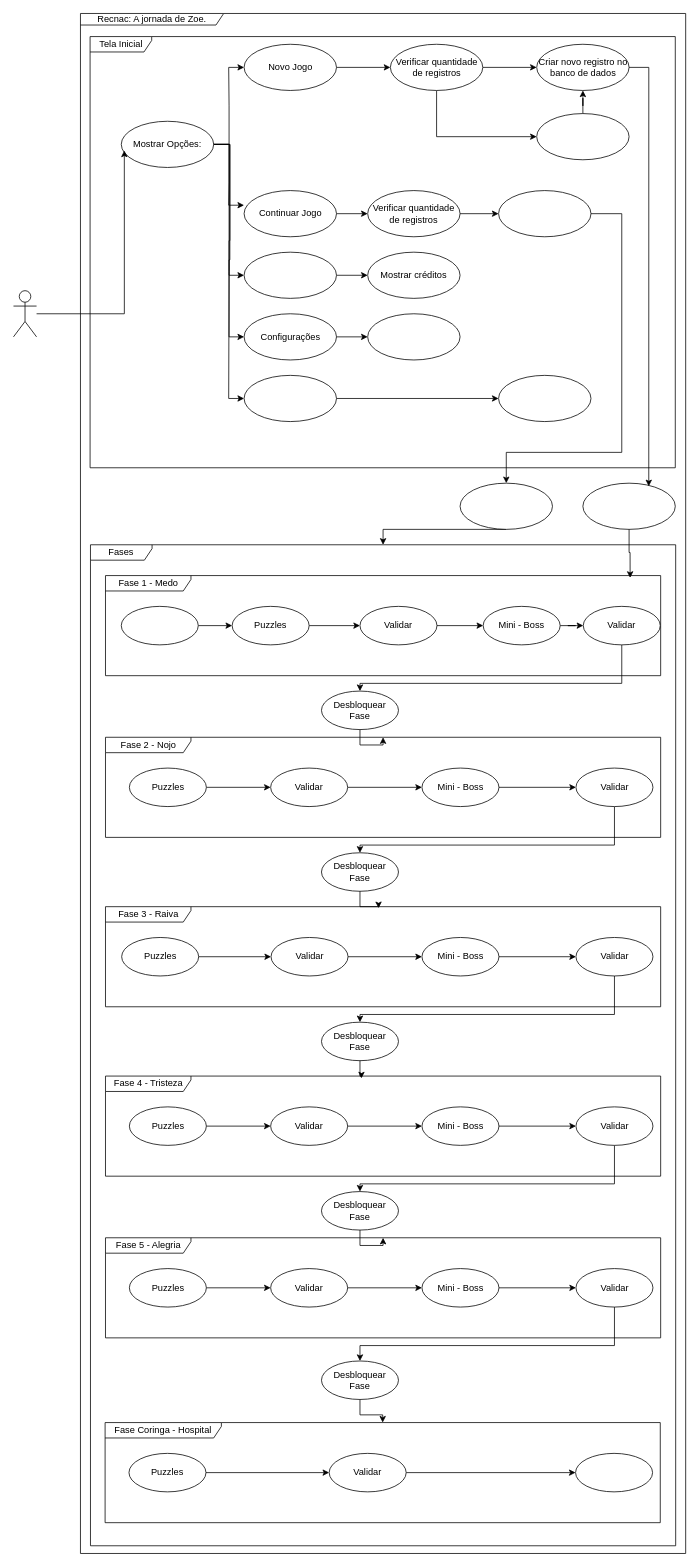
Some shapes in this 699 by 1567 pixel diagram are drawn without their labels. Here are the shapes that lost their labels. From the top down, the centre of each, then its label:
At [582,136]: "Excluir Registro".
At [544,213]: "Escolher registro".
At [289,274]: "Créditos".
At [25,313]: "Actor".
At [413,336]: "Mostrar Configurações".
At [289,398]: "Sair".
At [544,398]: "Encerrar sistema".
At [505,505]: "Continuar de onde parou".
At [628,505]: "Iniciar Jogo".
At [159,625]: "Tutorial de movimentação".
At [614,1472]: "Encerrar".
